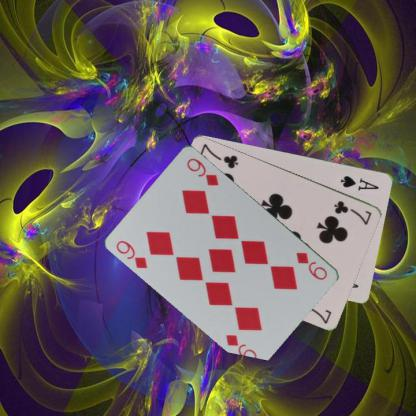7c: (331, 198, 373, 226)
9d: (113, 237, 149, 270), (294, 249, 328, 281)
As: (338, 173, 381, 191)
